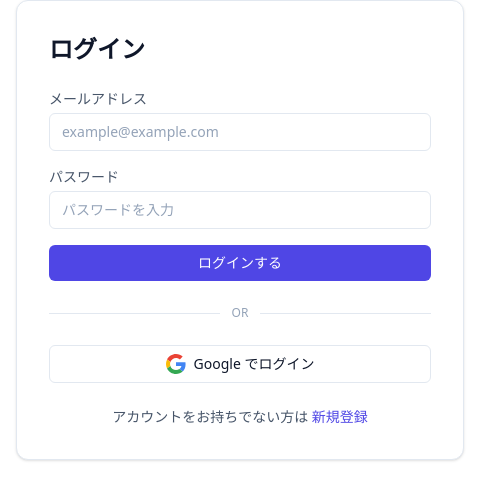
it: LoginForm › メールアドレスのバリデーションエラー表示
Type "invalid-email" into the field labelled "メールアドレス". click: (240, 132)
box: [49,113,431,151]
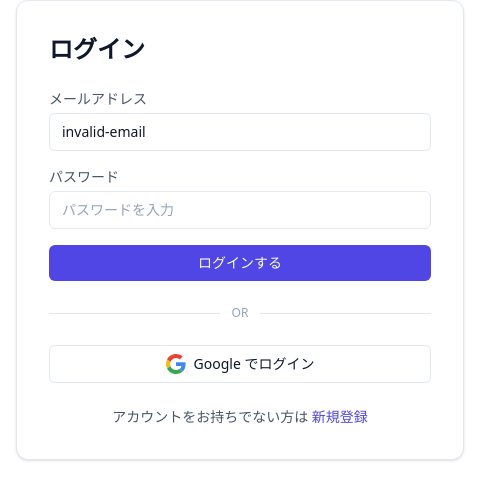
Type "password123" into the password field labelled "パスワード". click: (240, 210)
box: [49,191,431,229]
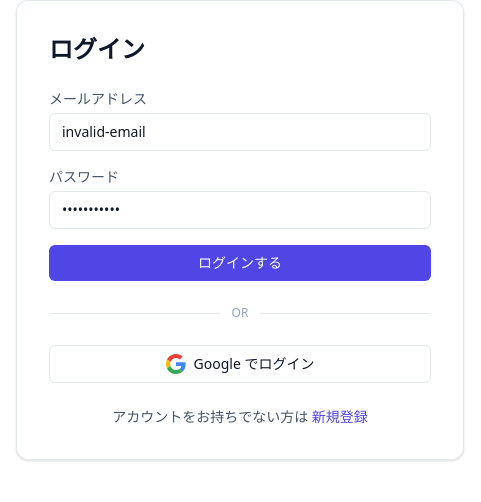
Submit the text "ログインする", box [49,89,431,281]
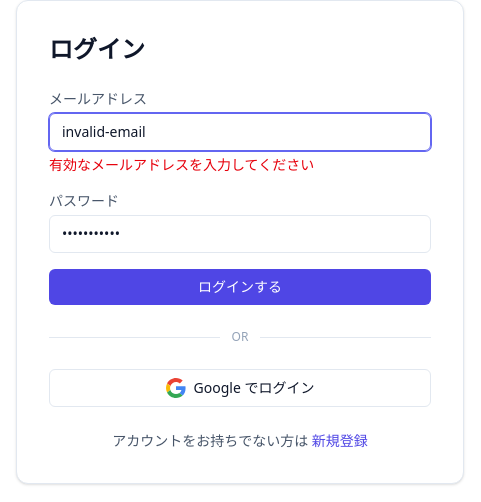
Expected: the text "有効なメールアドレスを入力してください" is shown, [49,155,314,174]
